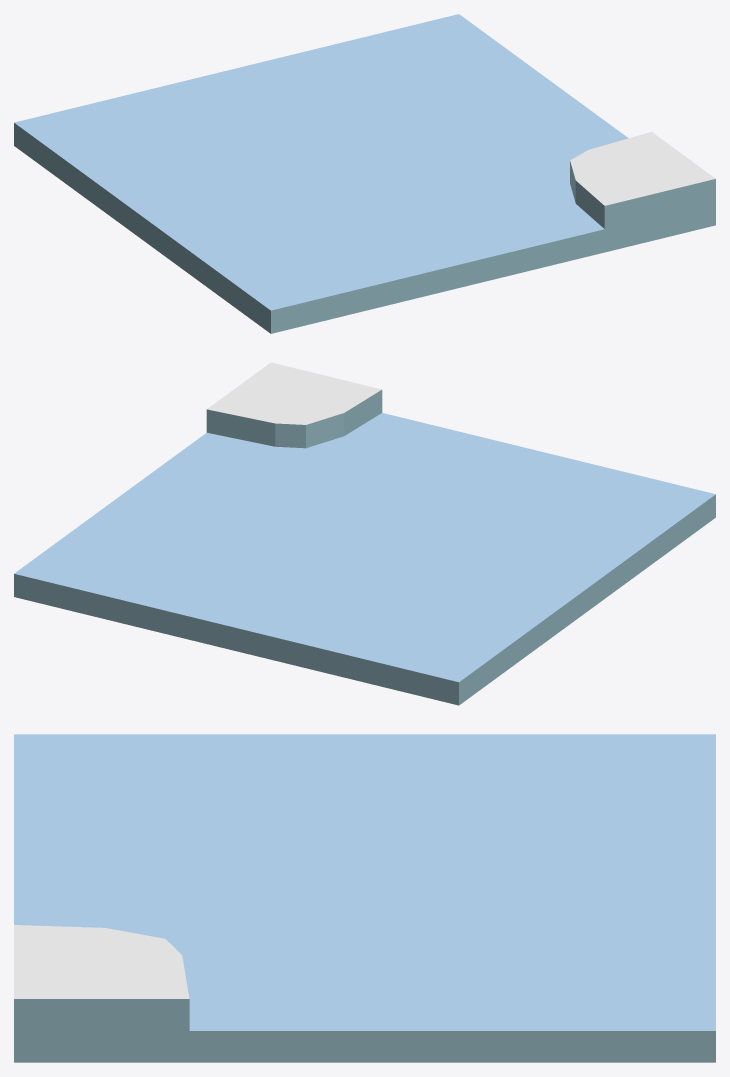
File: Terrain_Modular_Tiles_Snow_Ice_Water_Edge_Corner_Inner_03.fbx
3 views of the same model, one above another, from view 1: azimuth 30°, elevation 25°; view 2: azimuth 150°, elevation 25°; view 3: azimuth 270°, elevation 25° (orthographic). The views are drawn at different scales.
Visible parts, largest first — view 1: Terrain_Modular_Tiles_Snow_Ice_Water_Edge_Corner_Inner_03; view 2: Terrain_Modular_Tiles_Snow_Ice_Water_Edge_Corner_Inner_03; view 3: Terrain_Modular_Tiles_Snow_Ice_Water_Edge_Corner_Inner_03.
Part boxes in pixels (box(x1,y1,x2,y2)): Terrain_Modular_Tiles_Snow_Ice_Water_Edge_Corner_Inner_03: box(14, 14, 715, 333); Terrain_Modular_Tiles_Snow_Ice_Water_Edge_Corner_Inner_03: box(14, 362, 715, 705); Terrain_Modular_Tiles_Snow_Ice_Water_Edge_Corner_Inner_03: box(14, 734, 715, 1062).
Size of the model in its own units: 118 by 11.81 by 118.
